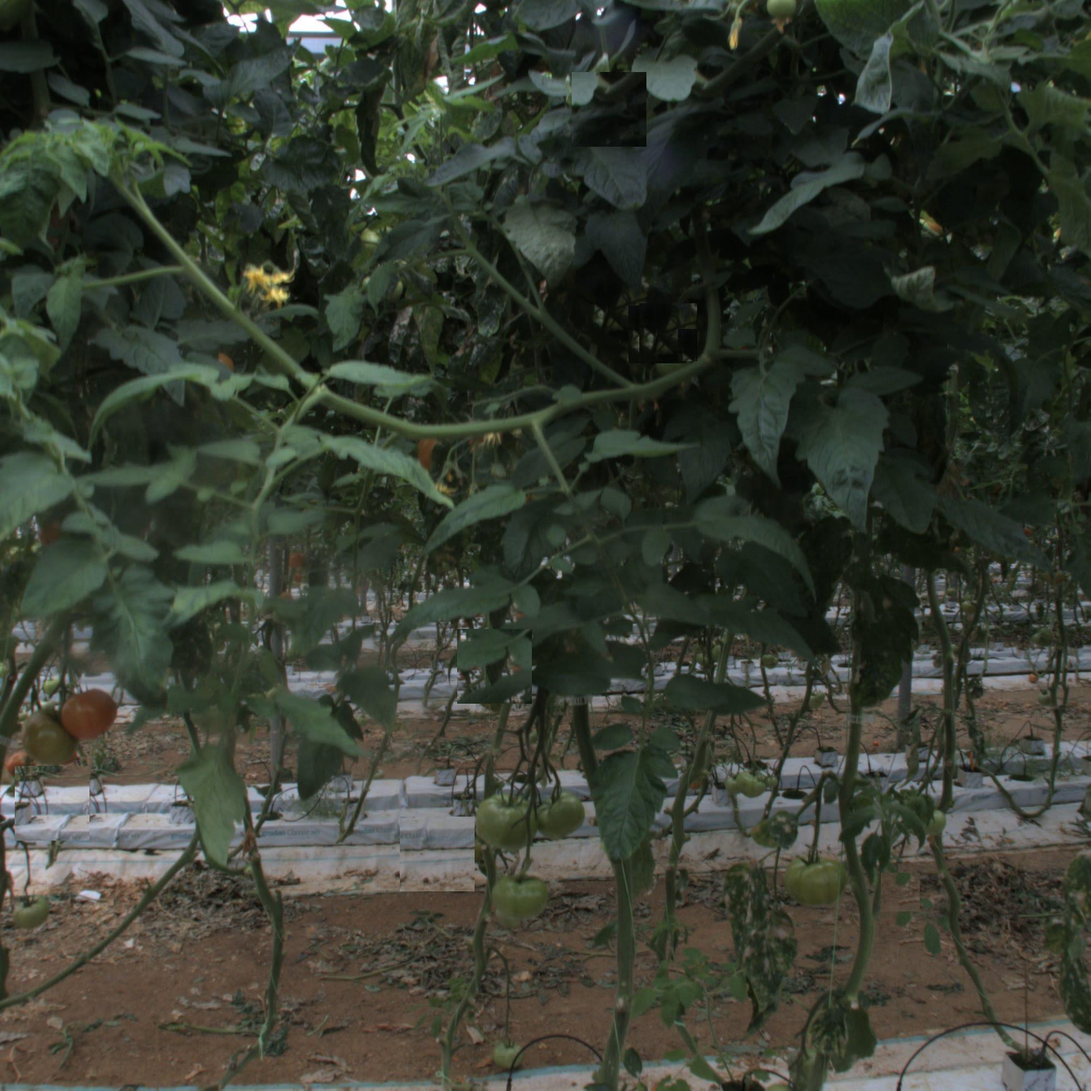fully-ripe: (60, 682, 117, 739)
unripe: (788, 853, 845, 910), (22, 709, 79, 766), (493, 864, 549, 921), (477, 794, 533, 850), (535, 790, 583, 838)
